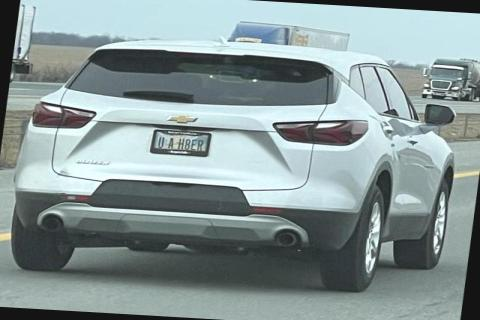LicensePlate: (147, 127, 210, 156)
